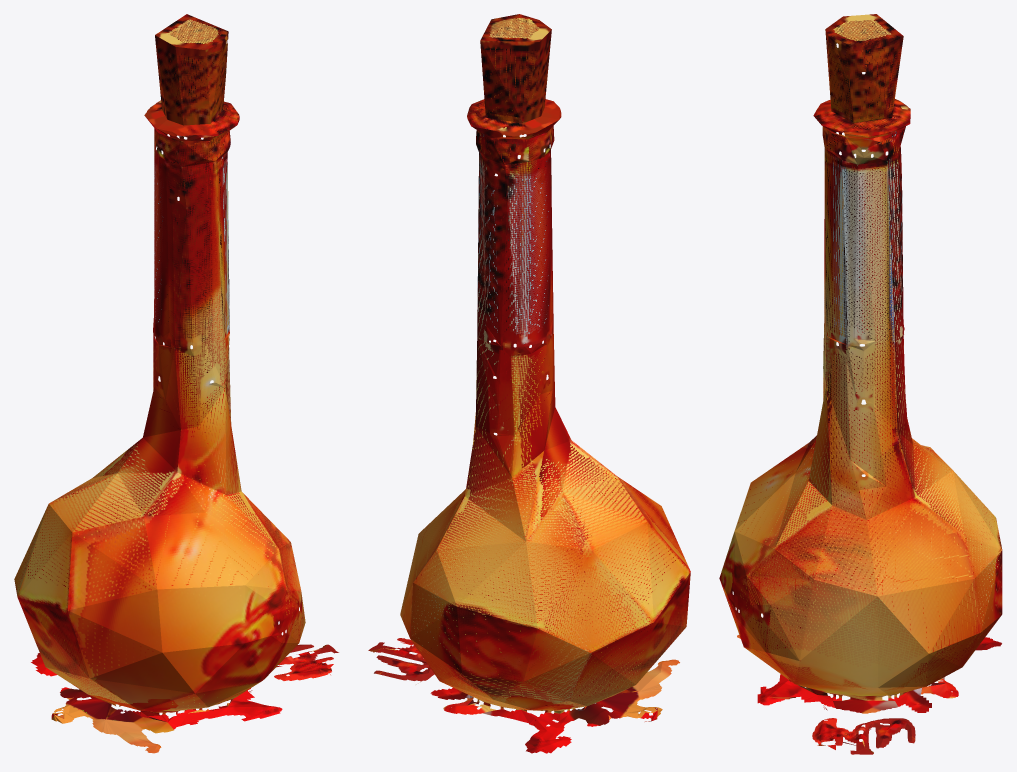
Rendered from AlchemistryVial.glb.
3 views of the same model, side by side, from view 1: azimuth 30°, elevation 25°; view 2: azimuth 150°, elevation 25°; view 3: azimuth 270°, elevation 25° (orthographic).
Visible parts, largest first — view 1: world; view 2: world; view 3: world.
Part boxes in pixels (x1,y1,x2,y2): world: (14,14,338,753); world: (368,14,690,753); world: (719,14,1002,754).
Size of the model in its own units: 0.0855 by 0.18 by 0.0697.
Materials: 1 (1 with a texture image).
